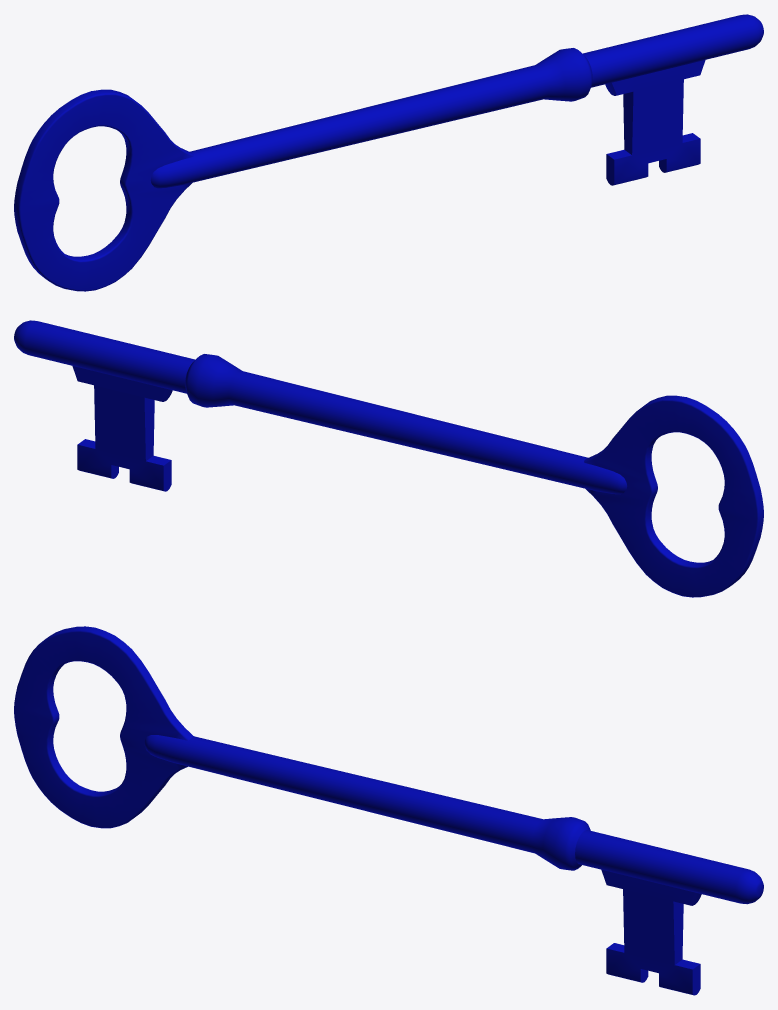
File: Blue_Key.fbx
3 views of the same model, one above another, from view 1: azimuth 30°, elevation 25°; view 2: azimuth 150°, elevation 25°; view 3: azimuth 330°, elevation 25° (orthographic).
Parts seen in each view (by area): view 1: key1_low; view 2: key1_low; view 3: key1_low.
Boxes of the visible parts, bbox=[...] form: key1_low: bbox=[14, 14, 763, 291]; key1_low: bbox=[14, 320, 763, 597]; key1_low: bbox=[14, 626, 763, 995].
Size of the model in its own units: 19.27 by 5.4 by 1.21.
